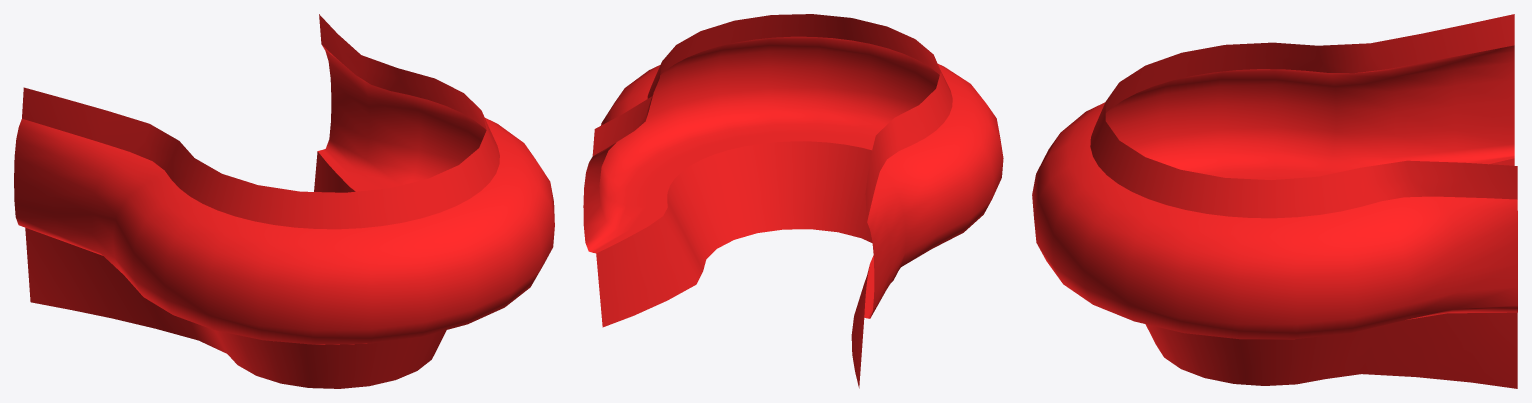
The model's file is COQUE.fbx.
3 renders of one model, left to right at view 1: azimuth 30°, elevation 25°; view 2: azimuth 150°, elevation 25°; view 3: azimuth 270°, elevation 25°, orthographic. The views are drawn at different scales.
Parts seen in each view (by area): view 1: SKIN; view 2: SKIN; view 3: SKIN.
Boxes of the visible parts, box(x1,y1,x2,y2) form: SKIN: box(14, 14, 554, 388); SKIN: box(583, 14, 1003, 388); SKIN: box(1032, 14, 1517, 388).
Bounding box in the file's own units: 11557 × 11791 × 6090.
